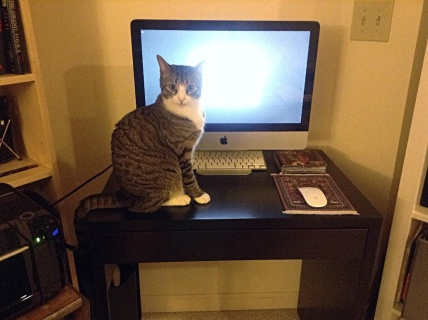Cat: (74, 51, 211, 216)
